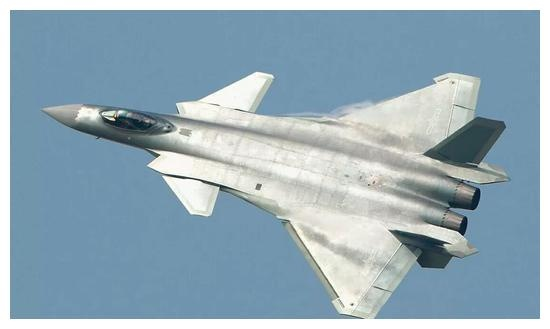airplane: (38, 70, 516, 320)
